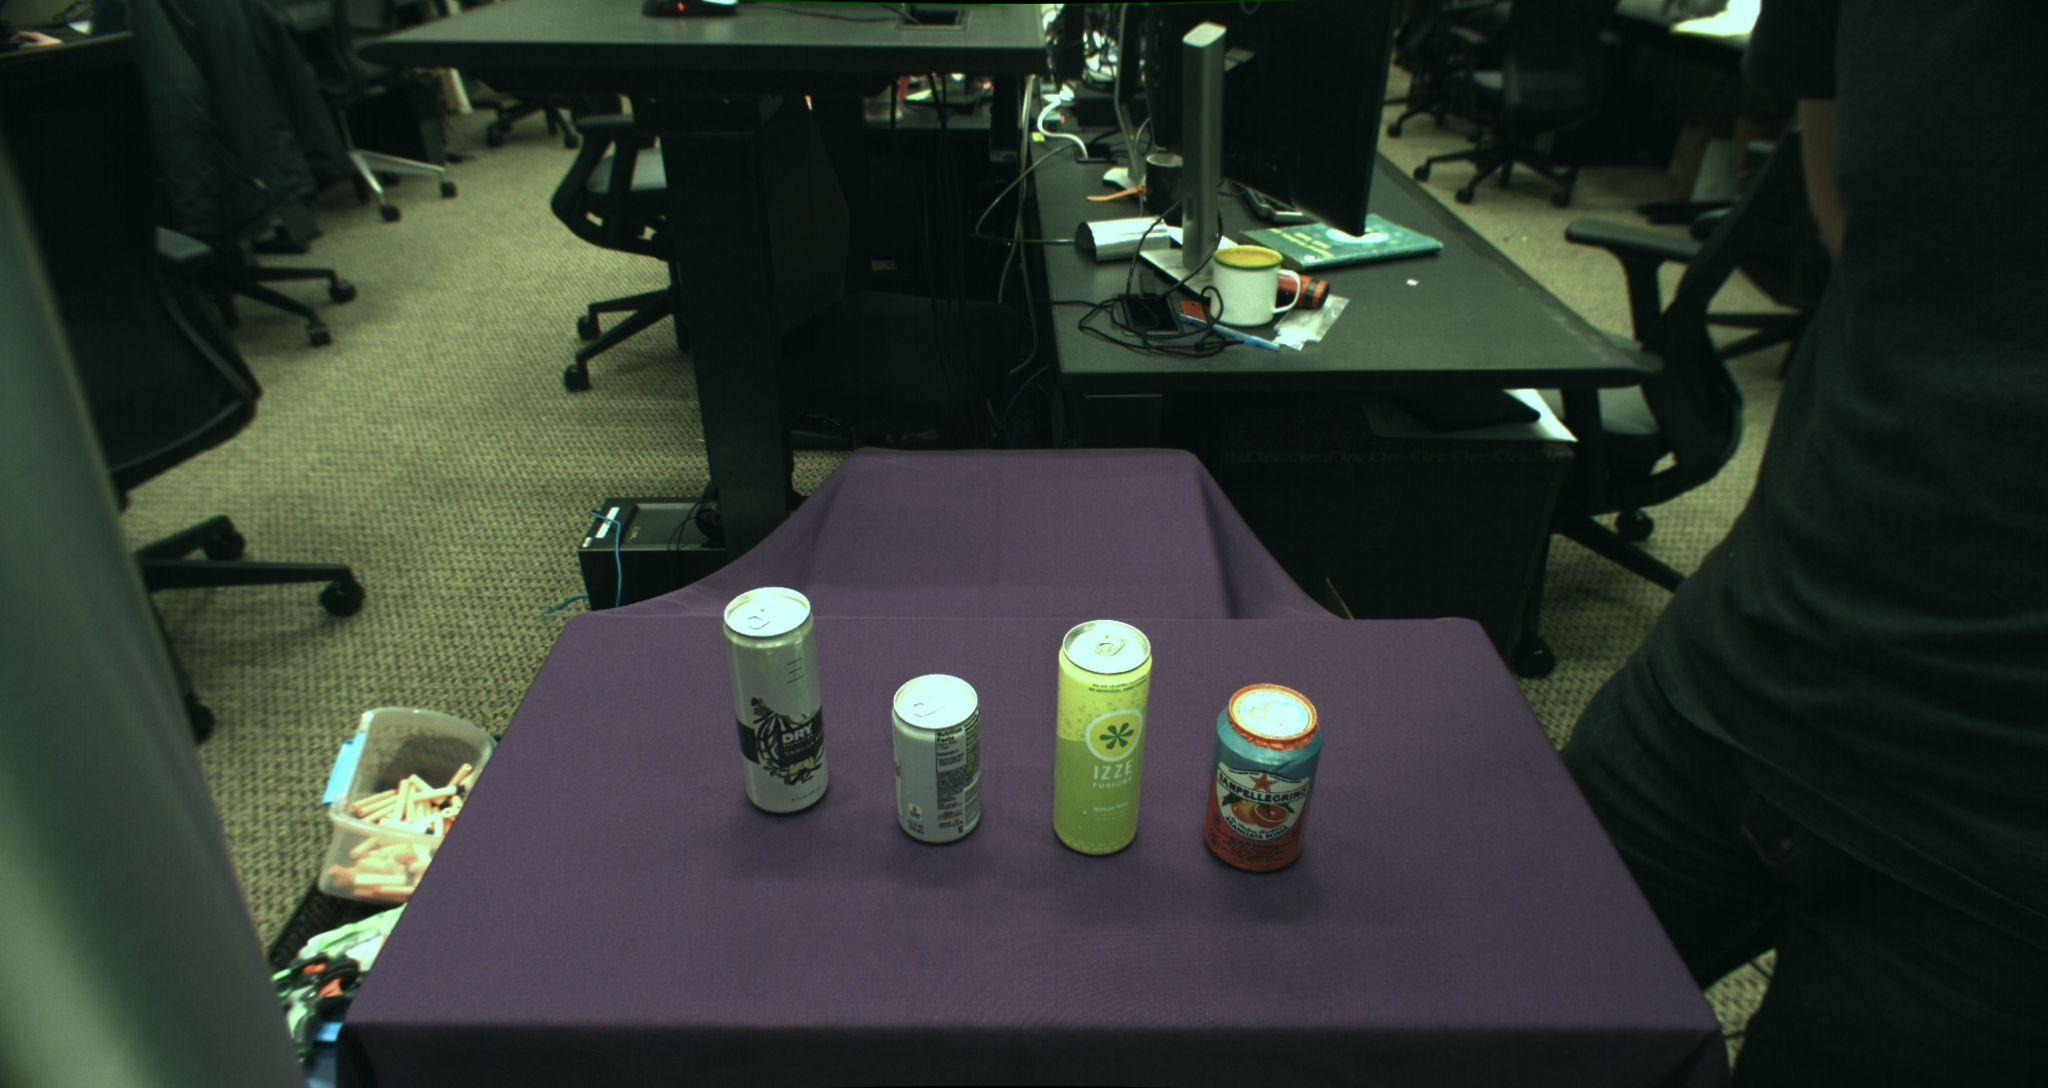can_diet_coke_small: (889, 673, 982, 844)
can_dry_sparkling_vanilla_bean: (722, 585, 830, 816)
can_izze_fusions_lemon_lime: (1052, 619, 1154, 856)
can_sanpellegrino_blood_orange: (1201, 682, 1323, 874)
